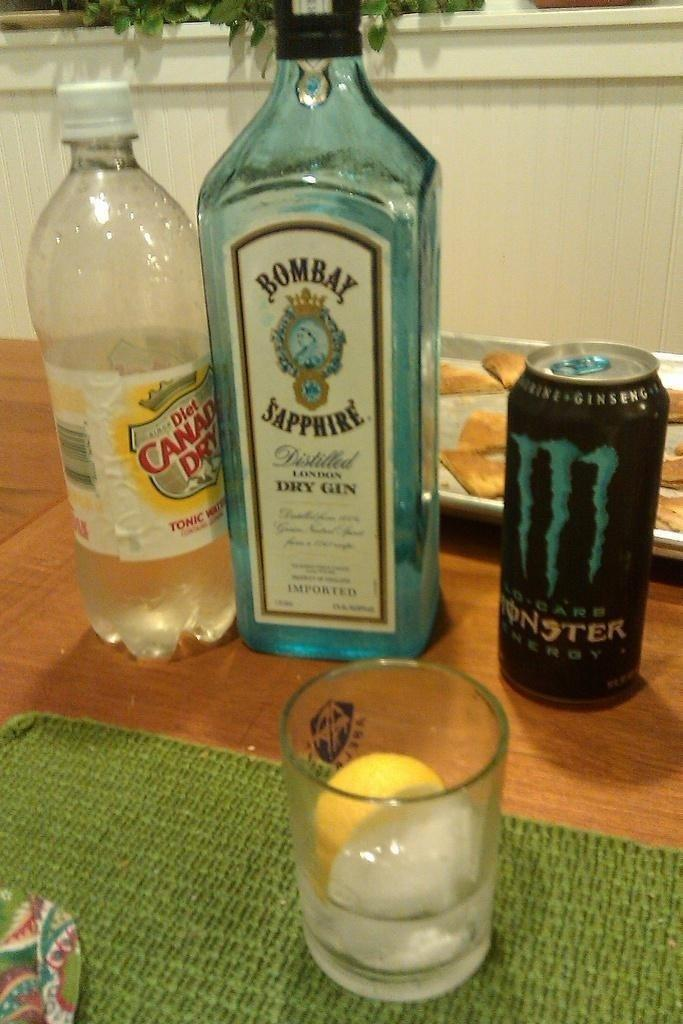bottle-glass: (205, 1, 444, 660)
bottle-plastic: (11, 76, 248, 648)
glass-normal: (280, 652, 510, 1005)
tin can: (491, 336, 670, 704)
